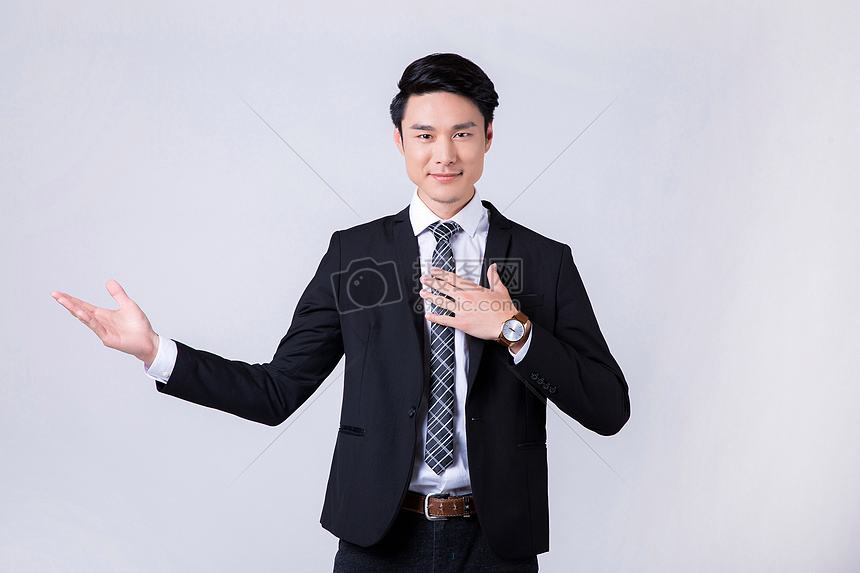no-phone: (46, 276, 158, 361)
